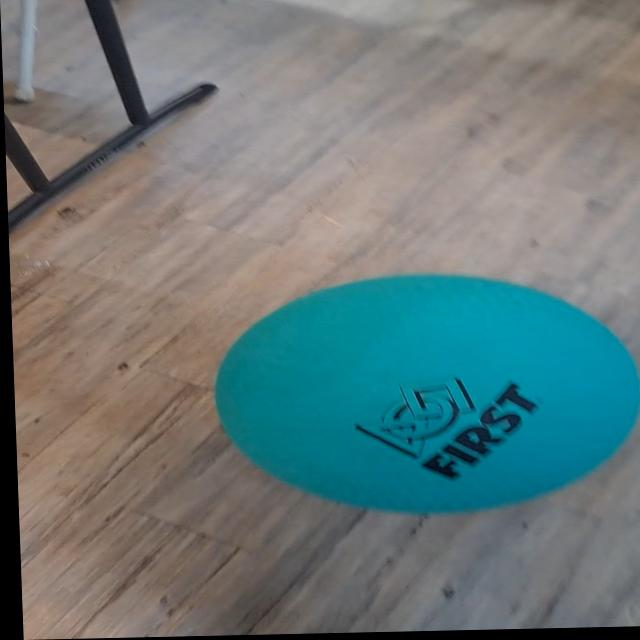ALGAE: (207, 267, 640, 520)
